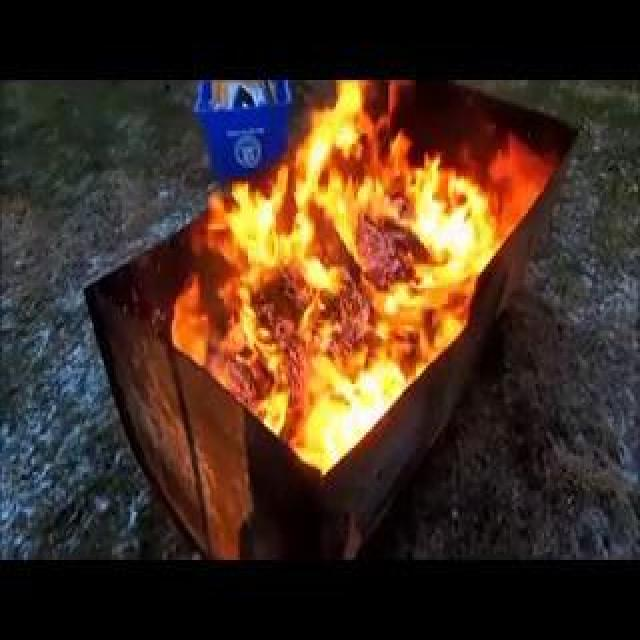Fire: (344, 284, 360, 402)
